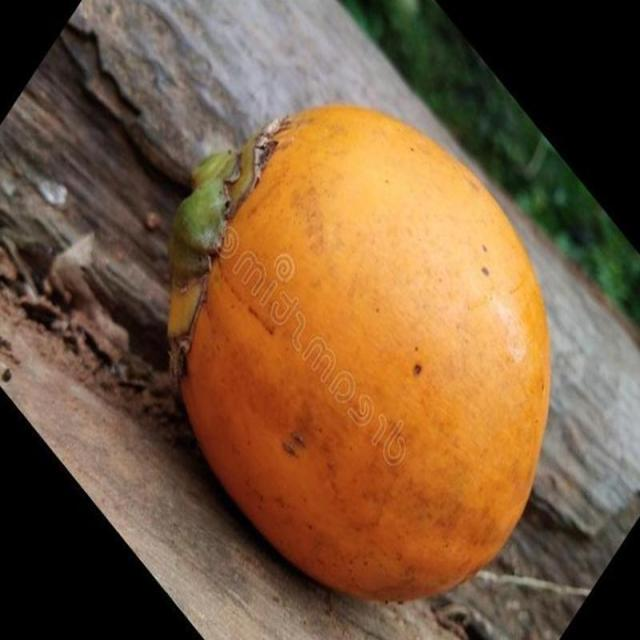good: (169, 106, 552, 606)
